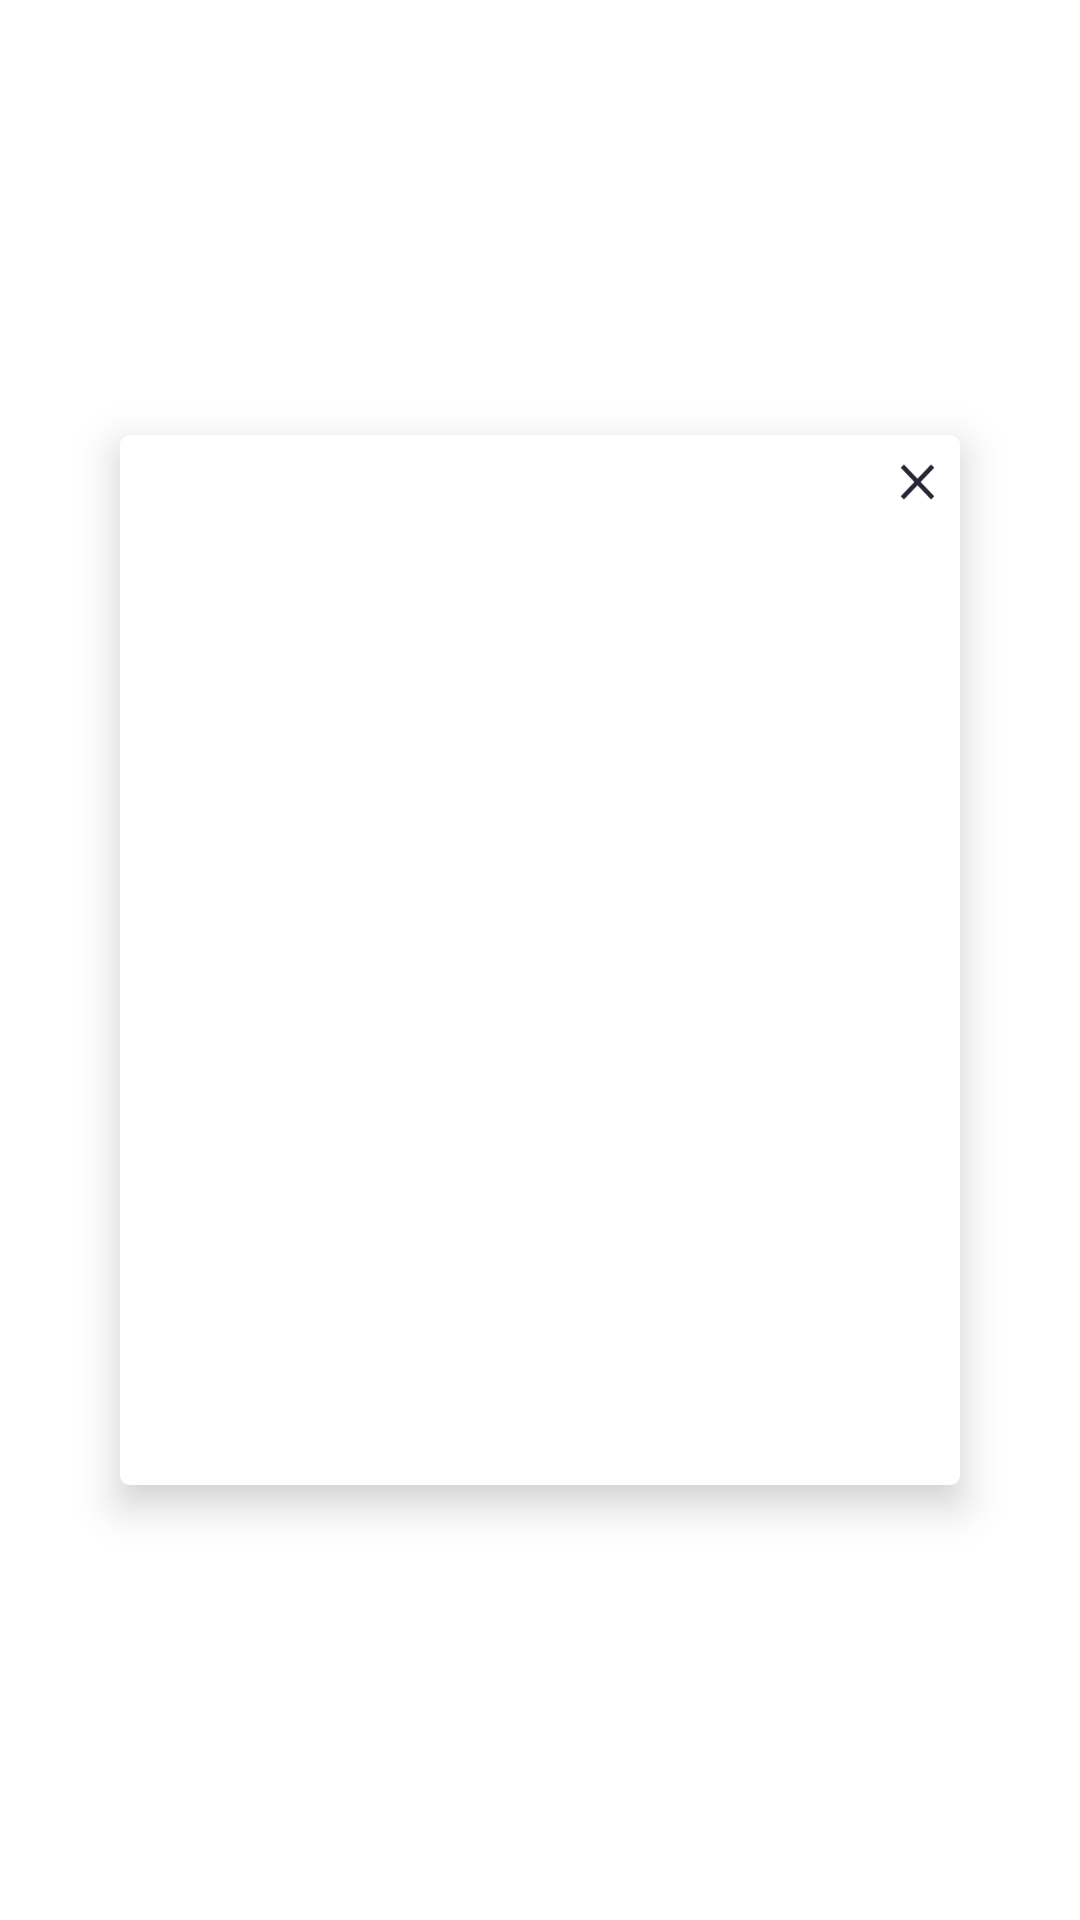

Icons on this 1080x1920 Android screen, each with the point to tap as (x,y):
card view close: (917,482)
